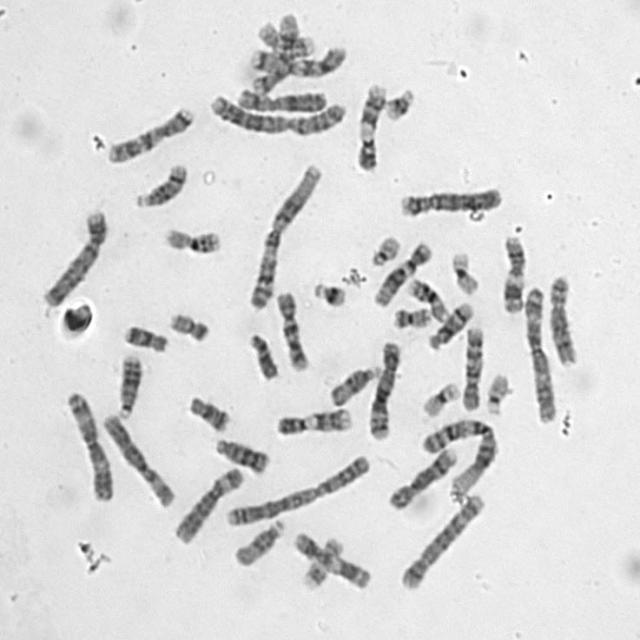A1: (242, 156, 325, 312), (416, 410, 501, 496)
A2: (220, 448, 373, 529), (202, 85, 348, 139)
A3: (60, 385, 114, 502), (518, 280, 560, 424)
B4: (37, 202, 110, 309), (394, 180, 504, 218)
B5: (394, 486, 487, 592), (363, 334, 404, 442)
C10: (270, 284, 311, 373), (457, 319, 486, 413)
C11: (288, 525, 372, 591), (496, 228, 529, 316)
C12: (369, 235, 435, 308), (247, 7, 301, 76)
C6: (96, 406, 178, 510), (167, 460, 245, 546)
C7: (102, 100, 196, 165), (245, 39, 346, 83)
C8: (383, 441, 460, 511), (543, 268, 581, 368)
C9: (351, 77, 389, 172), (271, 402, 355, 436)
D13: (209, 431, 271, 475), (111, 348, 143, 420)
D14: (130, 156, 190, 210), (422, 295, 476, 351)
D15: (228, 512, 286, 568), (325, 359, 382, 407)
E16: (403, 271, 451, 324), (158, 220, 224, 255)
E17: (296, 533, 344, 591), (253, 16, 318, 57)
E18: (182, 388, 232, 434), (242, 326, 280, 382)
F19: (416, 375, 463, 418), (445, 244, 482, 296)
F20: (163, 305, 211, 343), (388, 301, 433, 330)
G21: (379, 81, 417, 122), (307, 274, 349, 309)
G22: (479, 366, 514, 416), (365, 228, 403, 268)
X: (232, 82, 330, 114)
